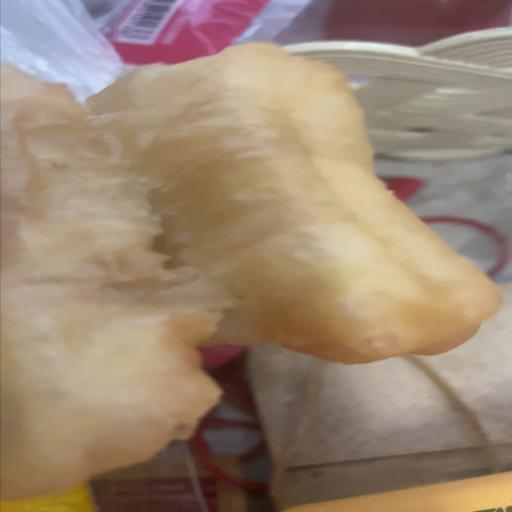street_golden_defect: (0, 63, 230, 501)
